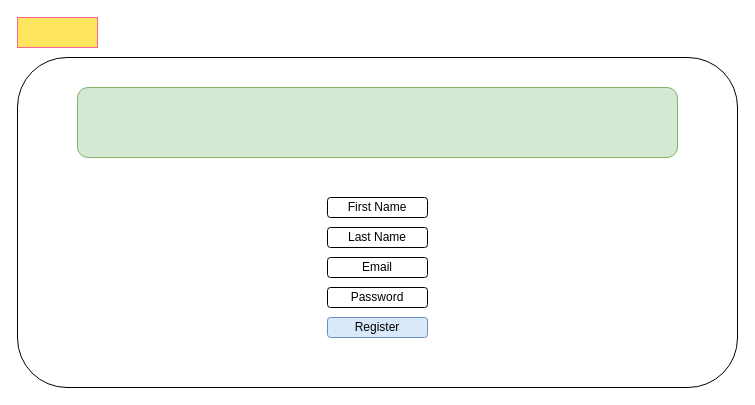
This 755x405 diagram has some shape labels left out. The centre of each missing label's shape, as x and y in pixels:
"Banner" belongs at (377,122).
"Register page" belongs at (57,32).
